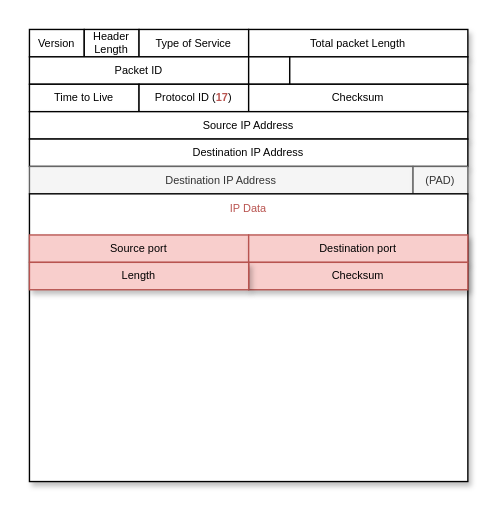
The diagram is 500 pixels wide and 515 high, and some of its shapes have lost their labels. Here are the shapes that lost their labels. From the top down, the centre of each, then its label:
point 270,72: Flags
point 379,72: Fragment Offset
